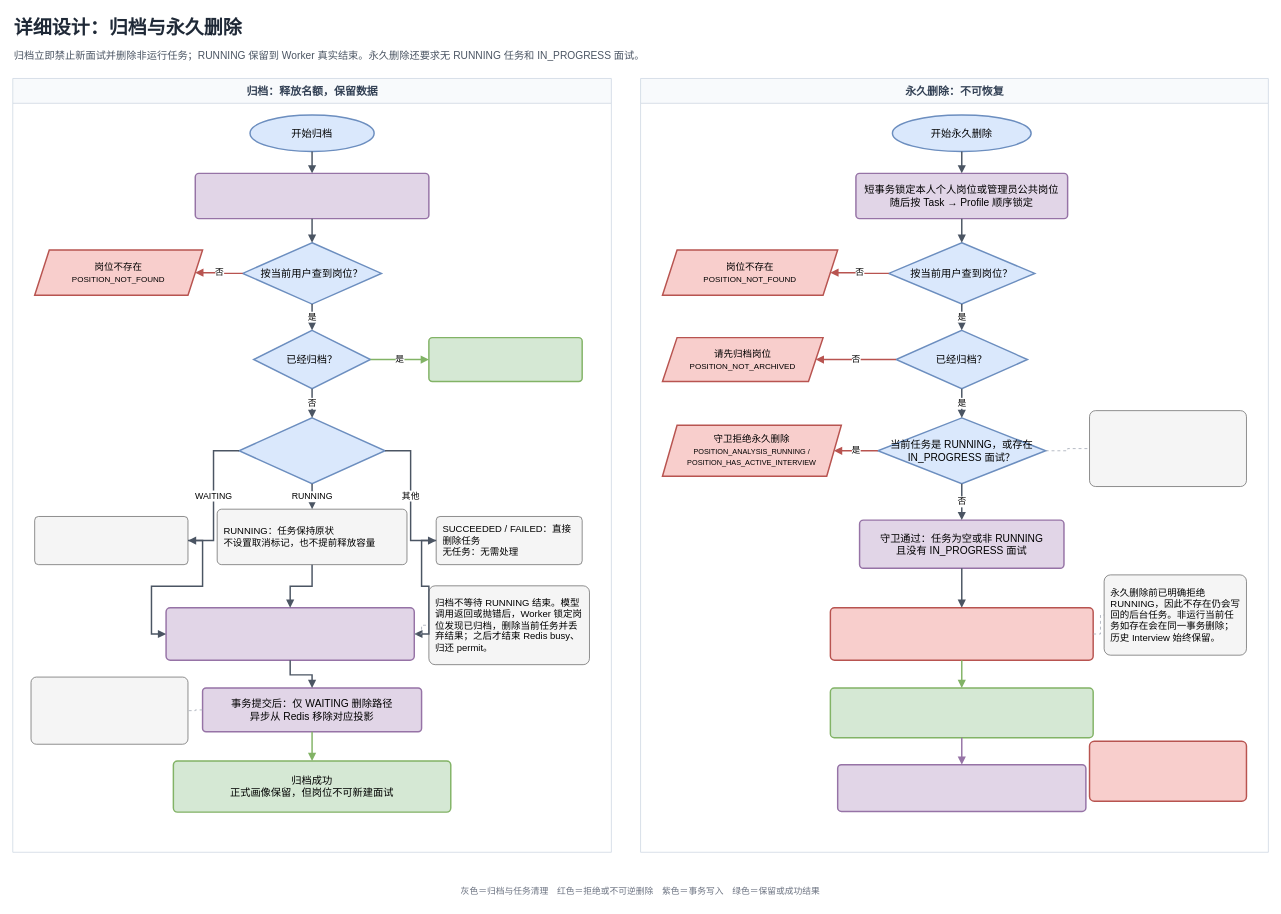
This 1281x914 diagram has some shape labels left out. The centre of each missing label's shape, as x and y in pixels:
WAITING：发布队列移除事件 并直接删除当前任务: (x=111, y=540)
个人：先锁 sys_user 再锁本人岗位 公共：管理员入口锁定公共岗位；随后锁当前任务: (x=311, y=195)
事务提交后返回删除成功 此操作不可恢复: (x=961, y=788)
历史面试及岗位/画像完整快照保持不变: (x=961, y=712)
只阻止有进行中面试的删除。已结束面试不阻止，因为不再回查岗位或正式画像。: (x=1167, y=448)
同一事务写 archivedAt 个人岗位立即释放一个活动岗位名额: (x=290, y=634)
同一事务按顺序永久删除 当前任务（含候选）→ 正式画像 → 岗位: (x=961, y=634)
幂等返回归档成功: (x=505, y=359)
当前解析任务处于哪种状态？ 也可能没有任务: (x=311, y=450)
永久删除不可撤销；不得级联删除历史面试或覆盖快照。: (x=1167, y=771)
进行中面试已保存完整快照，不受归档影响；归档立即释放一个未归档岗位名额。: (x=109, y=710)
